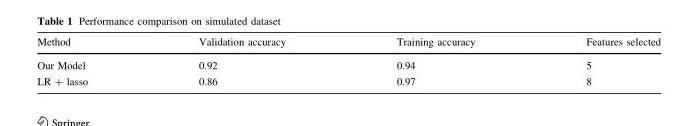table: (36, 36, 660, 86)
table column: (142, 36, 340, 86), (340, 36, 530, 86), (530, 36, 660, 86), (36, 36, 142, 86)
table column header: (36, 36, 660, 53)
table row: (36, 53, 660, 73), (36, 36, 660, 53), (36, 73, 660, 86)
